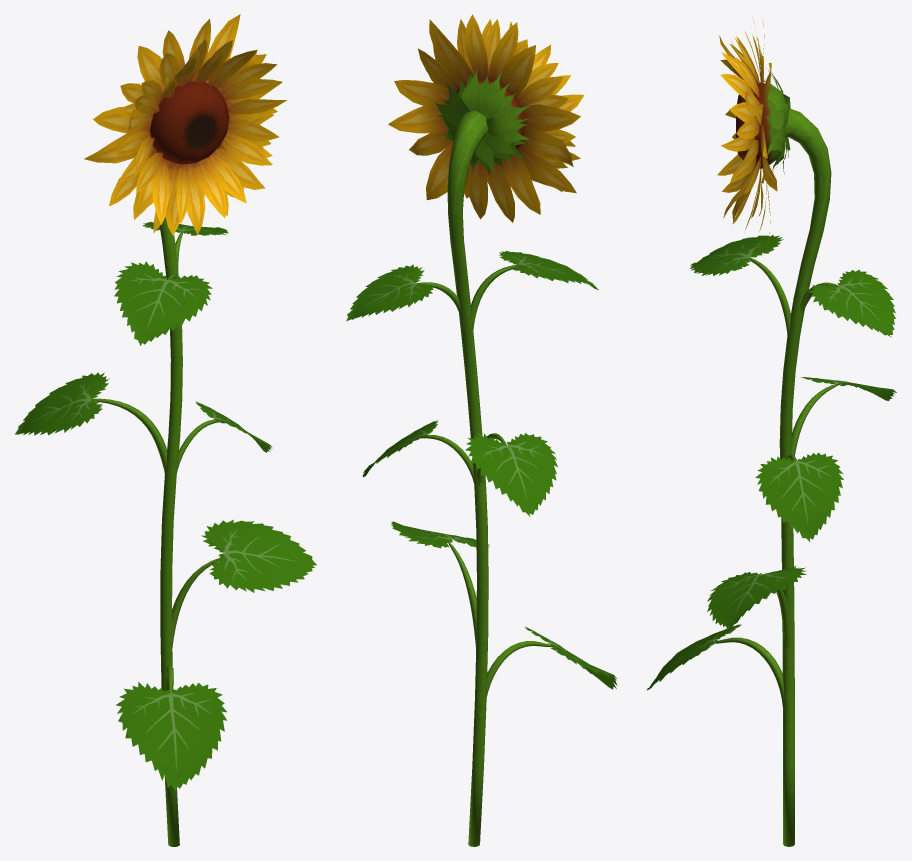
3 views of the same model, side by side, from view 1: azimuth 30°, elevation 25°; view 2: azimuth 150°, elevation 25°; view 3: azimuth 270°, elevation 25° (orthographic). The views are drawn at different scales.
Visible parts, largest first — view 1: Sunflower; view 2: Sunflower; view 3: Sunflower.
Part boxes in pixels (<box>): Sunflower: <box>15,14,316,846</box>; Sunflower: <box>346,14,617,846</box>; Sunflower: <box>647,19,896,846</box>.
Bounding box in the file's own units: 0.6341 × 2.24 × 0.6233.
1 material, 1 textured.
